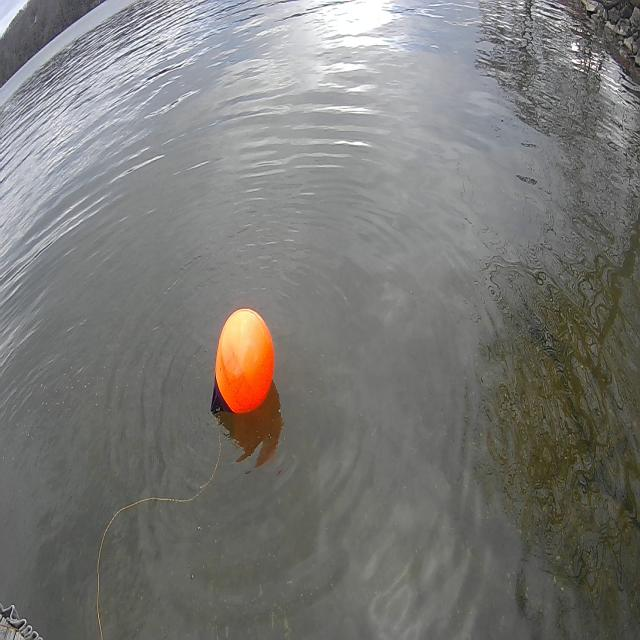Buoy: (208, 300, 278, 427)
